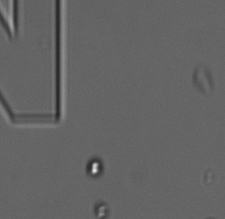Dead Cell: (193, 66, 217, 95), (204, 169, 218, 186)
Living Cell: (85, 157, 103, 177), (95, 201, 110, 217)
